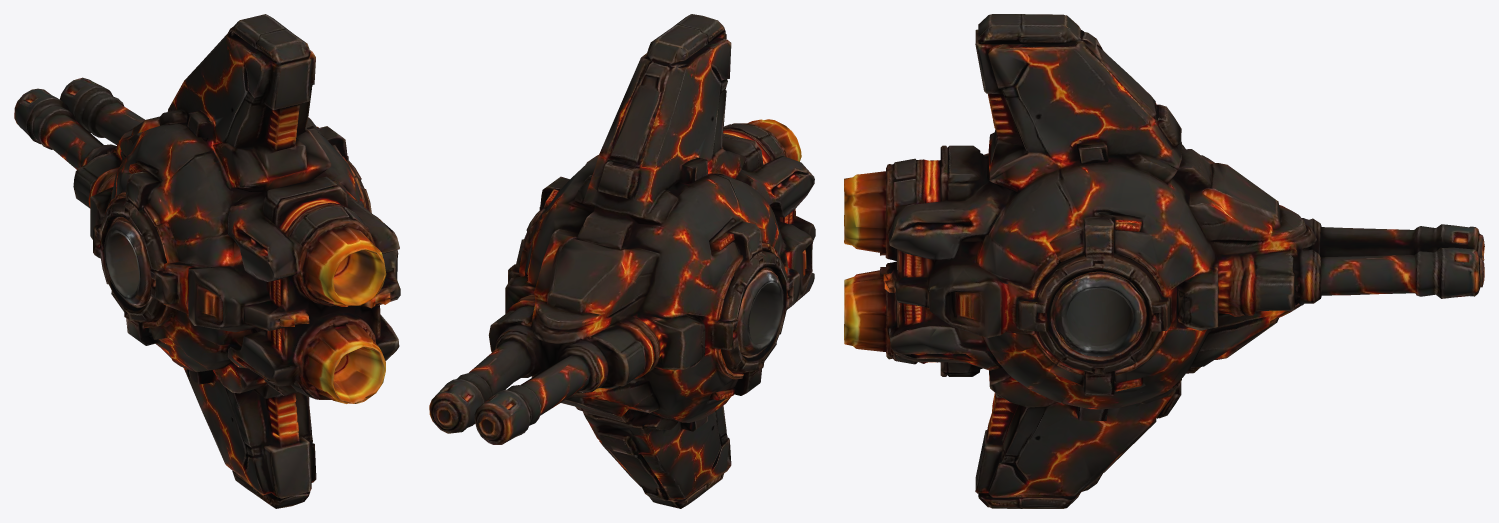
Rendered from magma.glb.
3 views of the same model, side by side, from view 1: azimuth 30°, elevation 25°; view 2: azimuth 150°, elevation 25°; view 3: azimuth 270°, elevation 25° (orthographic). The views are drawn at different scales.
Visible parts, largest first — view 1: tripo_node_e1bcd55a-b285-48e7-9be3-f47d2620e69e; view 2: tripo_node_e1bcd55a-b285-48e7-9be3-f47d2620e69e; view 3: tripo_node_e1bcd55a-b285-48e7-9be3-f47d2620e69e.
Boxes of the visible parts, box(x1,y1,x2,y2) form: tripo_node_e1bcd55a-b285-48e7-9be3-f47d2620e69e: box(14, 14, 400, 508); tripo_node_e1bcd55a-b285-48e7-9be3-f47d2620e69e: box(429, 14, 815, 508); tripo_node_e1bcd55a-b285-48e7-9be3-f47d2620e69e: box(844, 14, 1484, 508).
Size of the model in its own units: 0.4186 by 0.8161 by 0.9808.
Materials: 1 (1 with a texture image).
